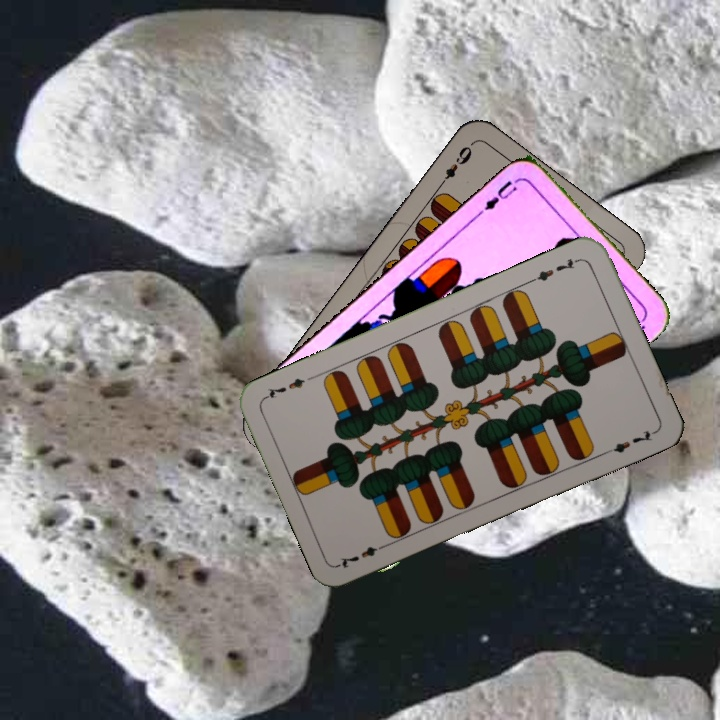E7: (335, 539, 392, 571), (527, 254, 584, 285)
E9: (434, 139, 475, 190)
EU: (475, 176, 520, 218)
